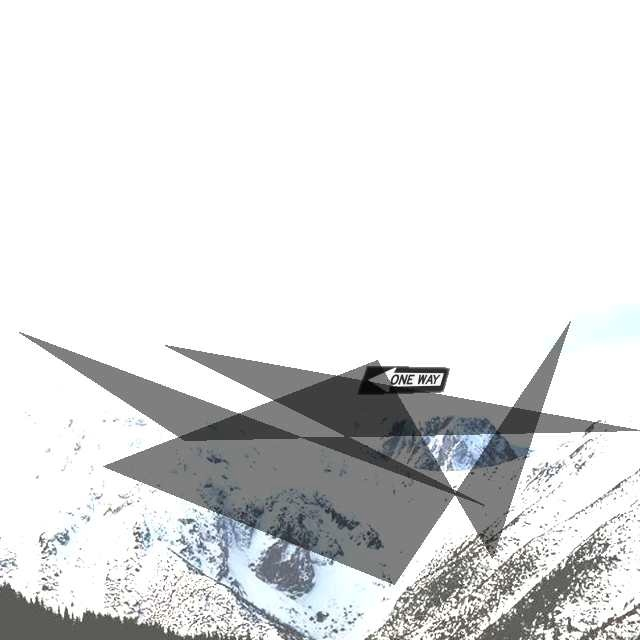ONE_WAY_ left: (356, 365, 450, 395)
